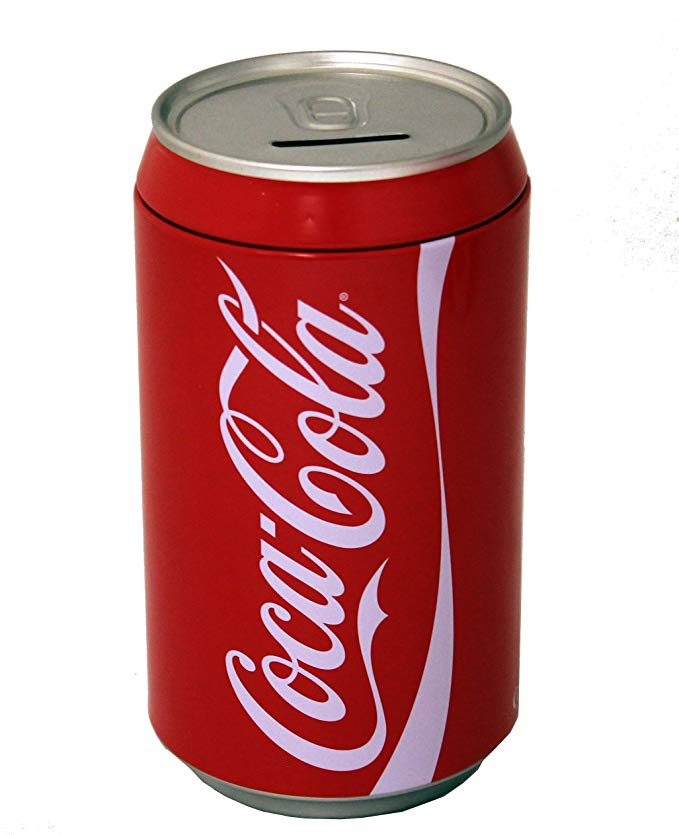can: (125, 45, 545, 828)
